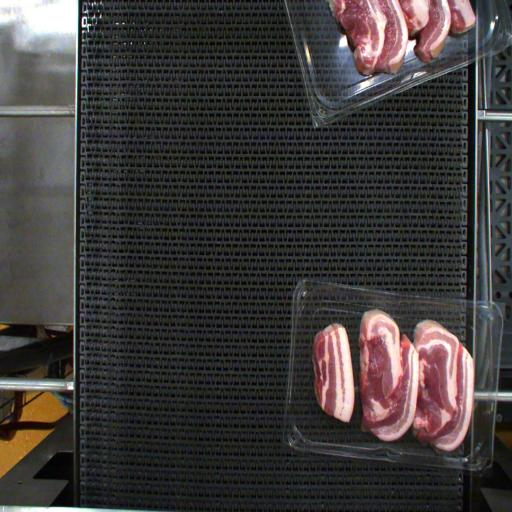loose-meat: (312, 314, 358, 427)
